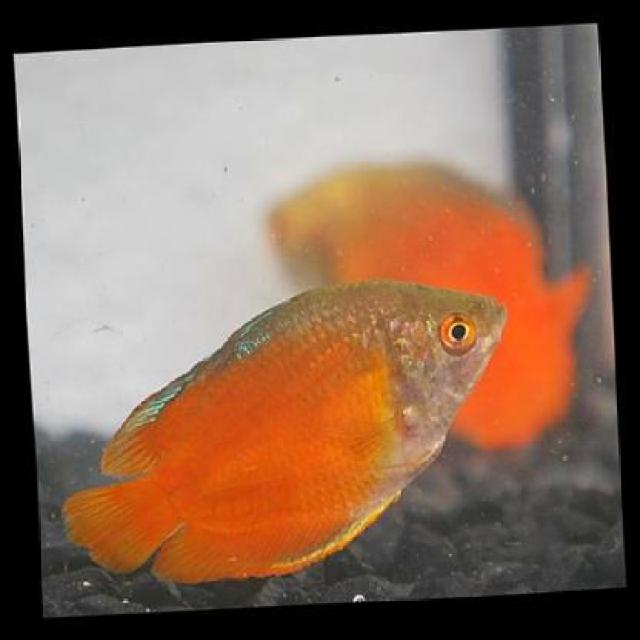Gourami: (58, 271, 520, 587)
